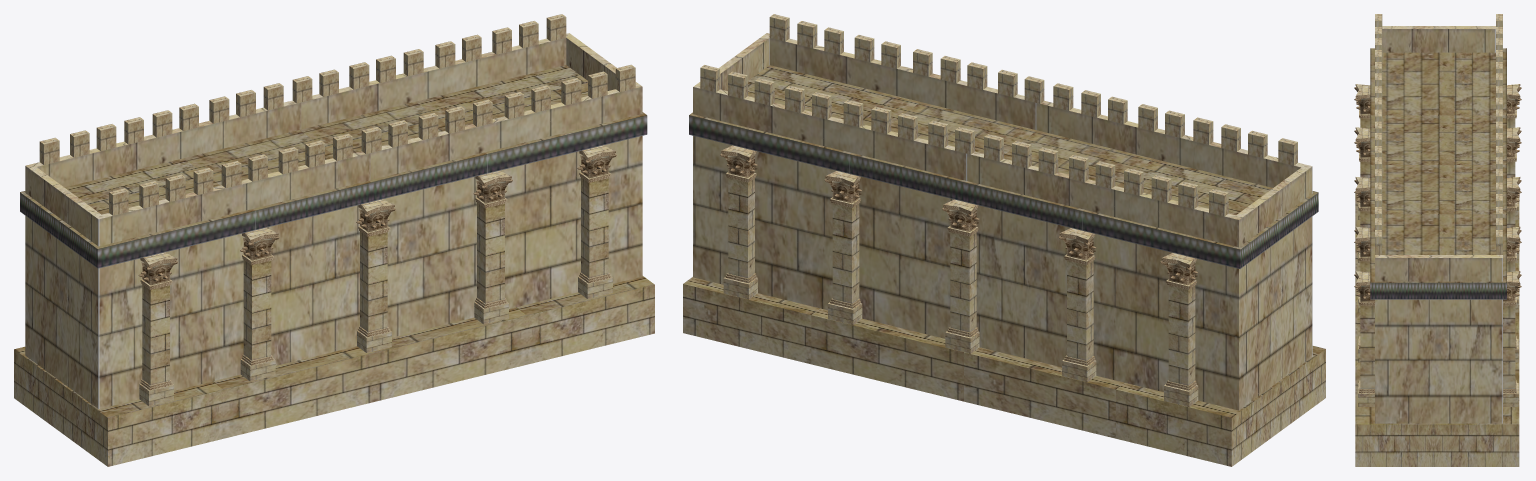
Rendered from wall_long_s.dae.
3 renders of one model, left to right at view 1: azimuth 30°, elevation 25°; view 2: azimuth 150°, elevation 25°; view 3: azimuth 270°, elevation 25°, orthographic. The views are drawn at different scales.
Parts seen in each view (by area): view 1: wall_long_s; view 2: wall_long_s; view 3: wall_long_s.
Boxes of the visible parts, x1,y1,x2,y2 form: wall_long_s: (14, 14, 654, 466); wall_long_s: (683, 14, 1325, 466); wall_long_s: (1354, 14, 1521, 466).
Bounding box in the file's own units: 8.32 × 2.51 × 3.76.
